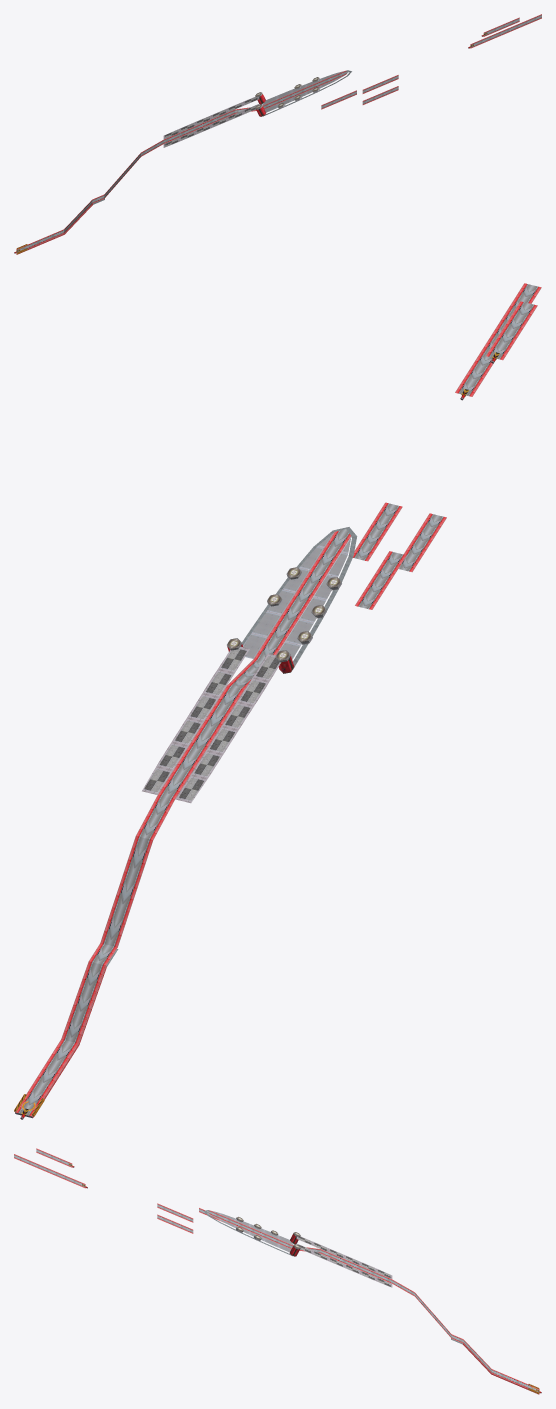
File: S13_ONS_14.OBJ
3 views of the same model, one above another, from view 1: azimuth 90°, elevation 25°; view 2: azimuth 150°, elevation 25°; view 3: azimuth 270°, elevation 25° (orthographic). The views are drawn at different scales.
Parts seen in each view (by area): view 1: s13_ons_14_5, s13_ons_14_8, s13_ons_14_12, s13_ons_14_11; view 2: s13_ons_14_5, s13_ons_14_8, s13_ons_14_12, s13_ons_14_11, s13_ons_14_7; view 3: s13_ons_14_5, s13_ons_14_8, s13_ons_14_12, s13_ons_14_11.
Boxes of the visible parts, left/top/right/bottom form: s13_ons_14_5: left=16, top=14, right=541, bottom=254; s13_ons_14_8: left=163, top=96, right=259, bottom=147; s13_ons_14_12: left=262, top=71, right=344, bottom=112; s13_ons_14_11: left=263, top=70, right=348, bottom=109; s13_ons_14_5: left=15, top=283, right=541, bottom=1117; s13_ons_14_8: left=142, top=646, right=280, bottom=803; s13_ons_14_12: left=243, top=533, right=351, bottom=659; s13_ons_14_11: left=253, top=529, right=351, bottom=661; s13_ons_14_7: left=106, top=527, right=357, bottom=966; s13_ons_14_5: left=14, top=1148, right=539, bottom=1394; s13_ons_14_8: left=296, top=1236, right=392, bottom=1287; s13_ons_14_12: left=211, top=1210, right=293, bottom=1252; s13_ons_14_11: left=207, top=1210, right=293, bottom=1248.
Bounding box in the file's own units: 376 × 1996 × 4003.
12 materials, 12 textured.
